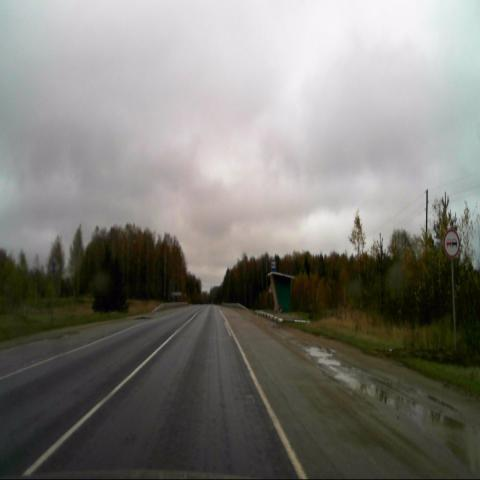3_20: (442, 229, 461, 258)
